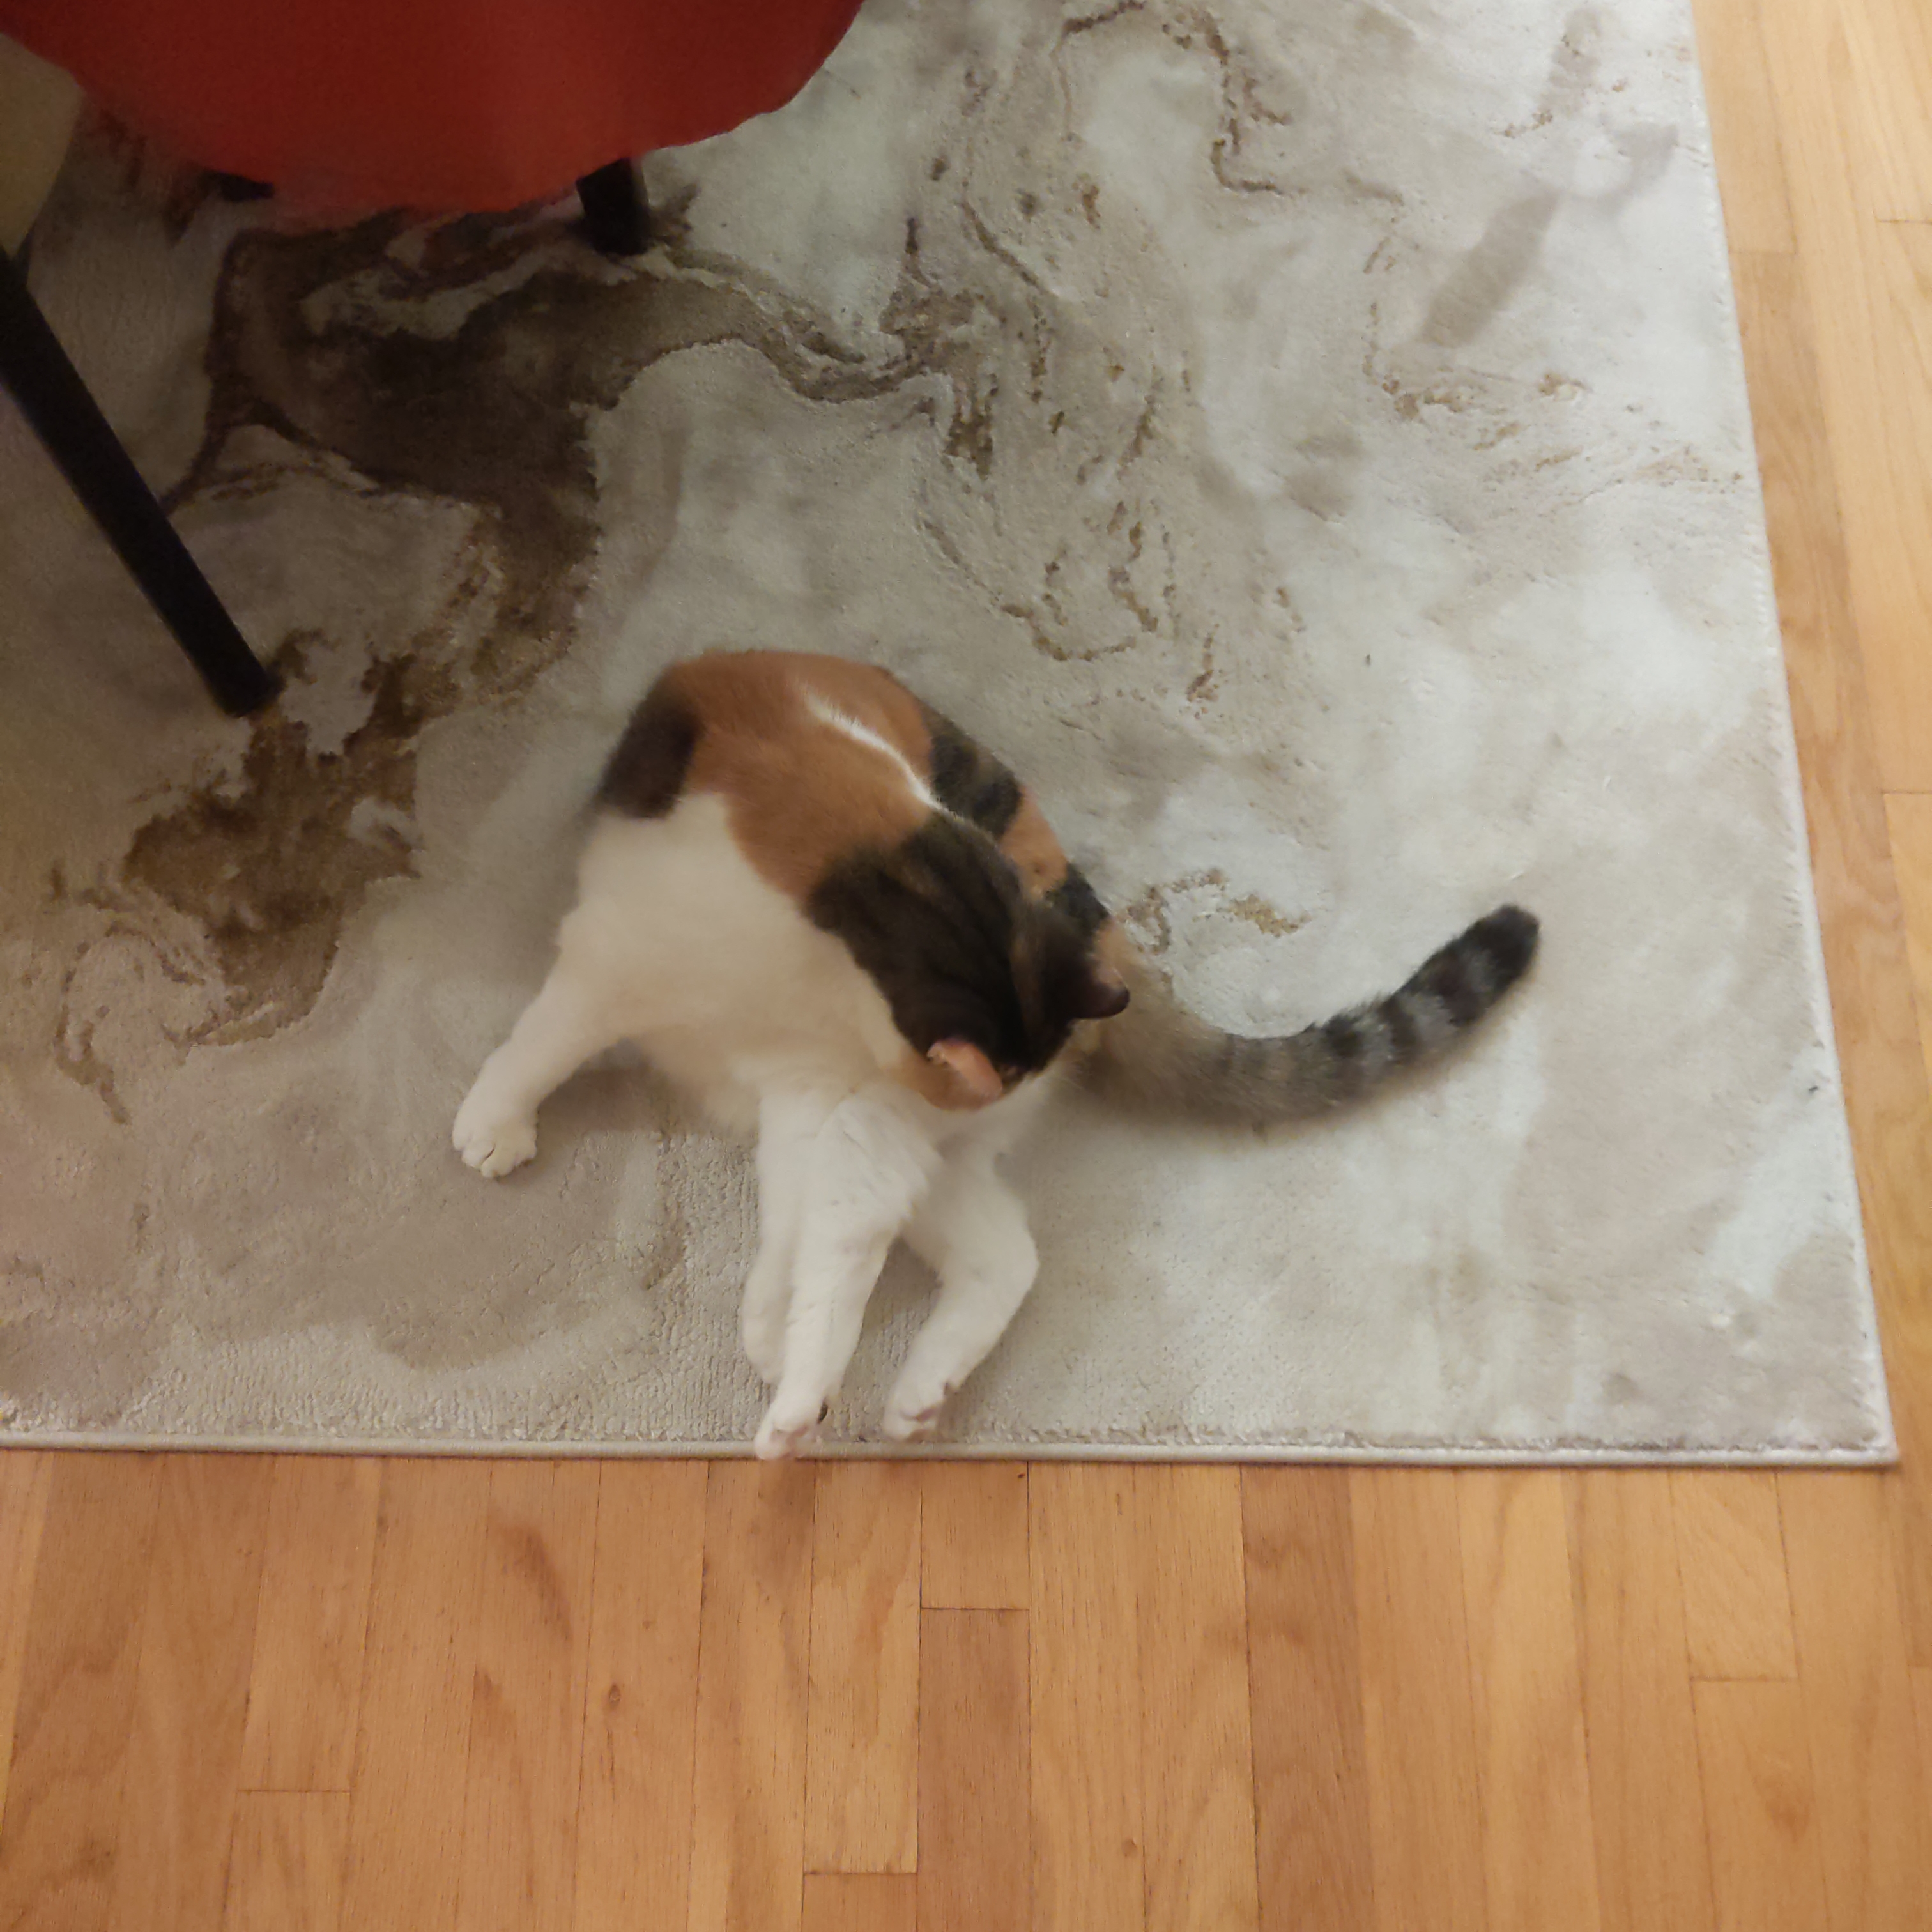Calico: (449, 651, 1543, 1463)
